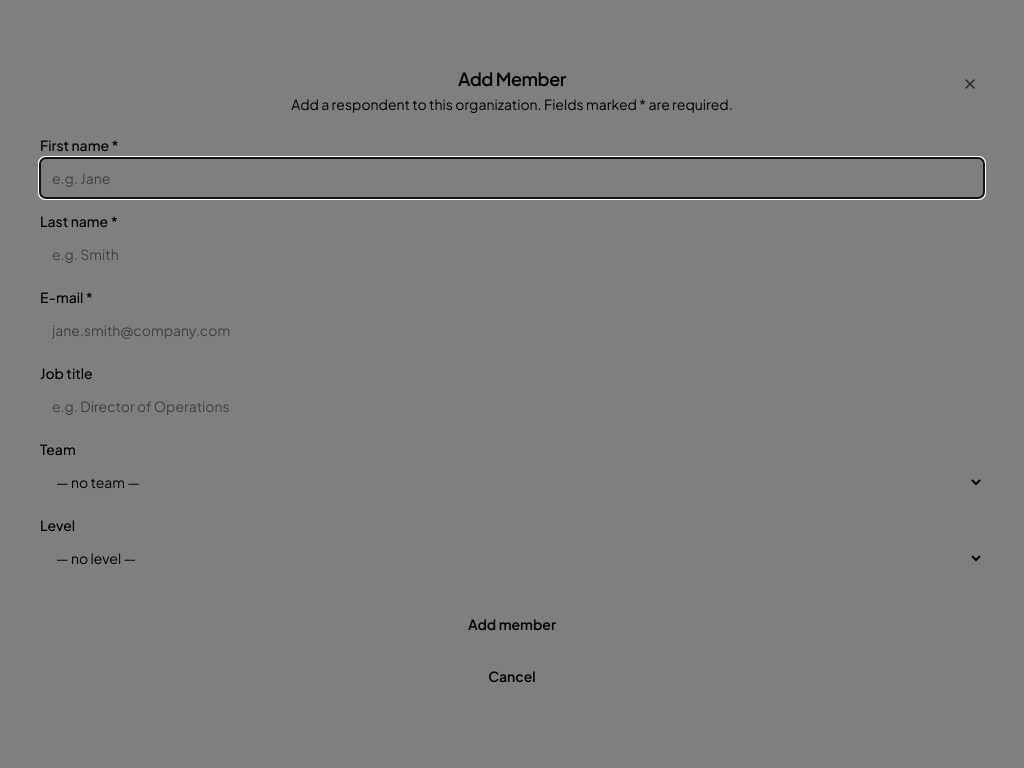
Test case: AddMemberModal › responsive mode exposes a viewport-bounded dialog and navigable multi-field error summary
Click the button "Add member" at (512, 624), box [40,602,984,646]
(page scrolled)
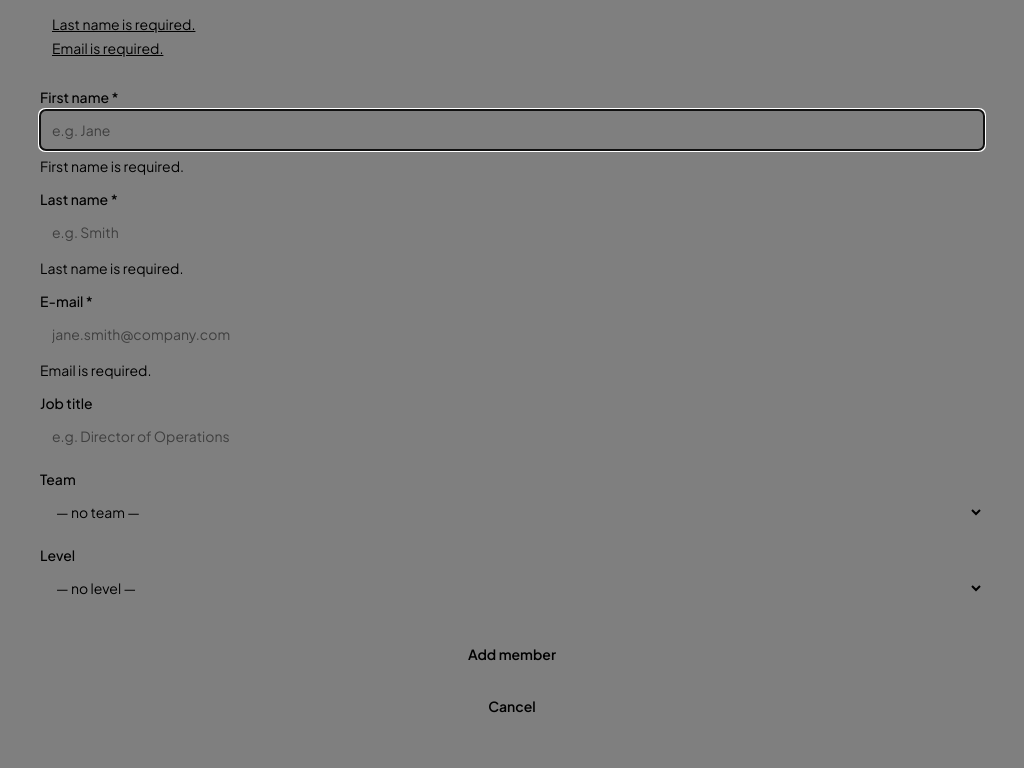
Check: the button "Cancel" is shown, box [40,684,984,728]
Check: the message named "add member error summary" shows "Last name is required.", box [52,16,195,33]
Check: the message named "add member error summary" shows "Email is required.", box [52,39,163,57]
